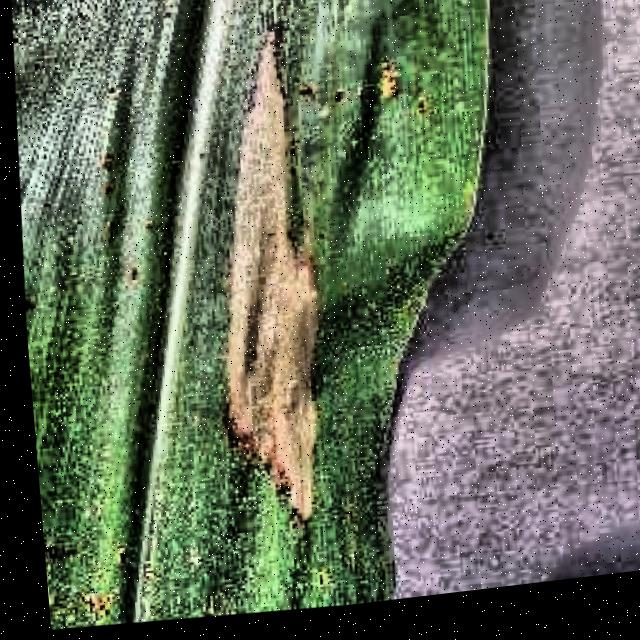blight: (40, 0, 518, 632)
